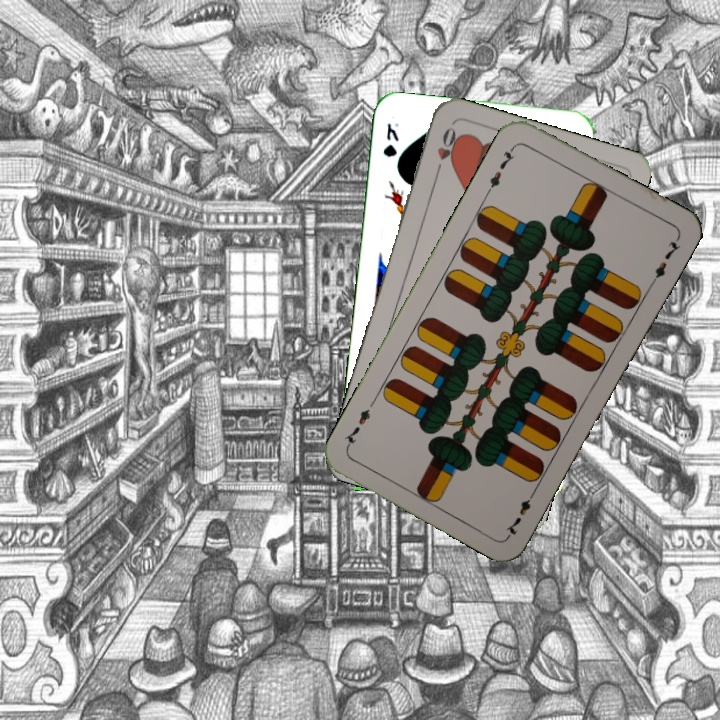E7: (501, 485, 539, 539), (483, 142, 518, 196)
GK: (379, 119, 401, 160)
HO: (431, 122, 460, 179)
